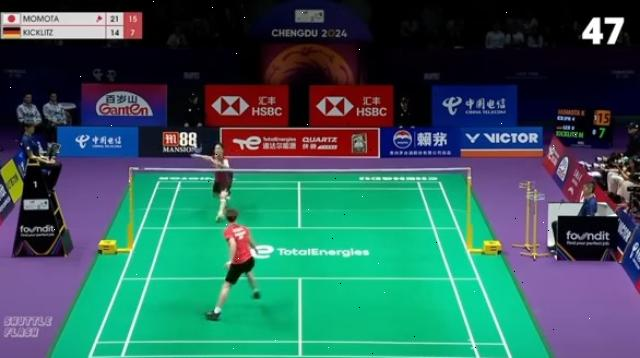Shuttlecock: (192, 142, 198, 150)
